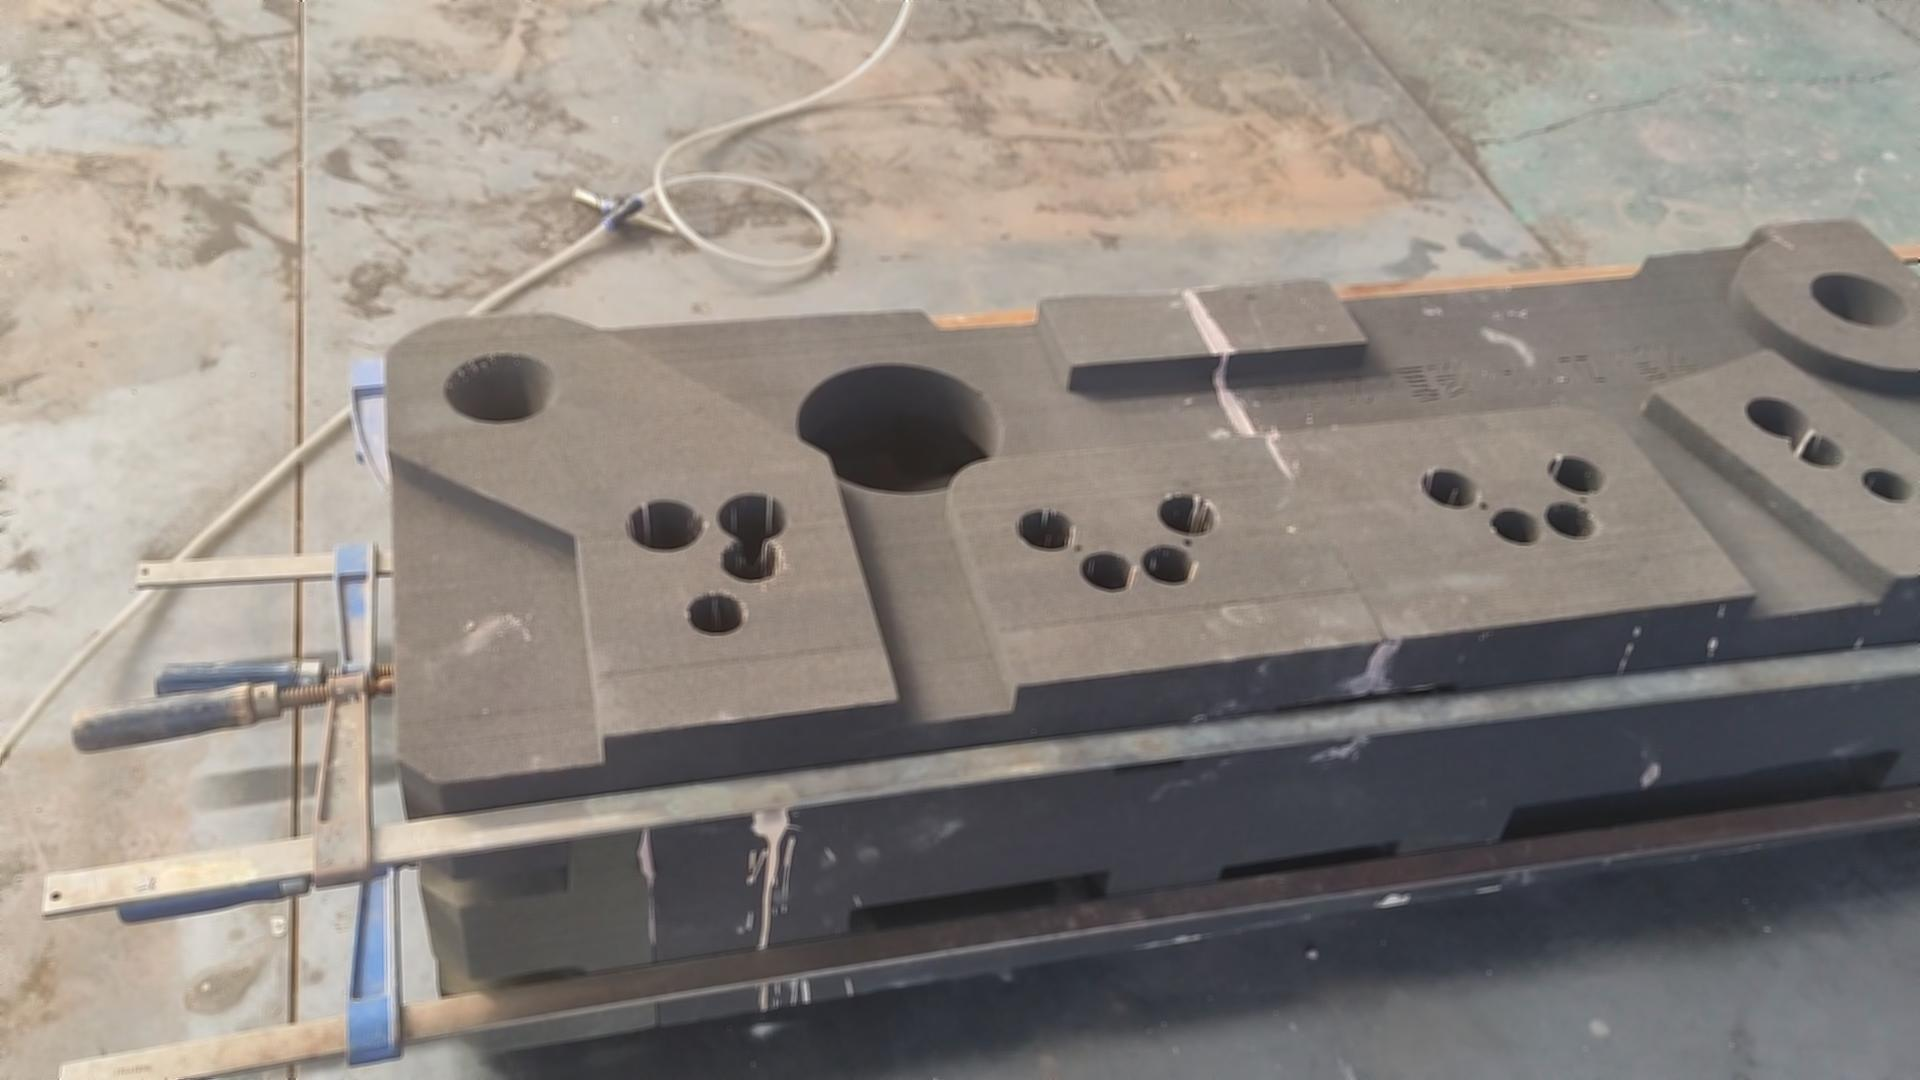pouring hole: (443, 352, 556, 423), (1811, 272, 1909, 328)
